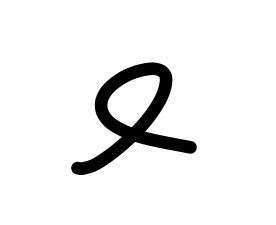o: (85, 52, 221, 159)
t: (56, 57, 180, 194)
